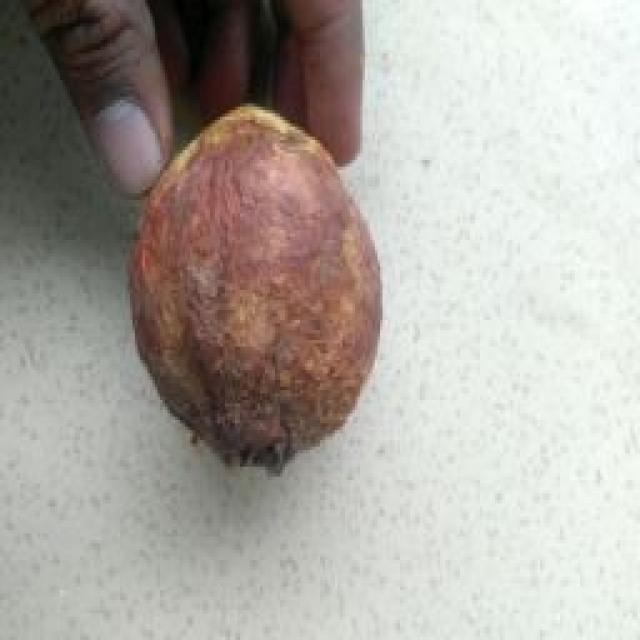Bad_Guava: (130, 107, 380, 469)
